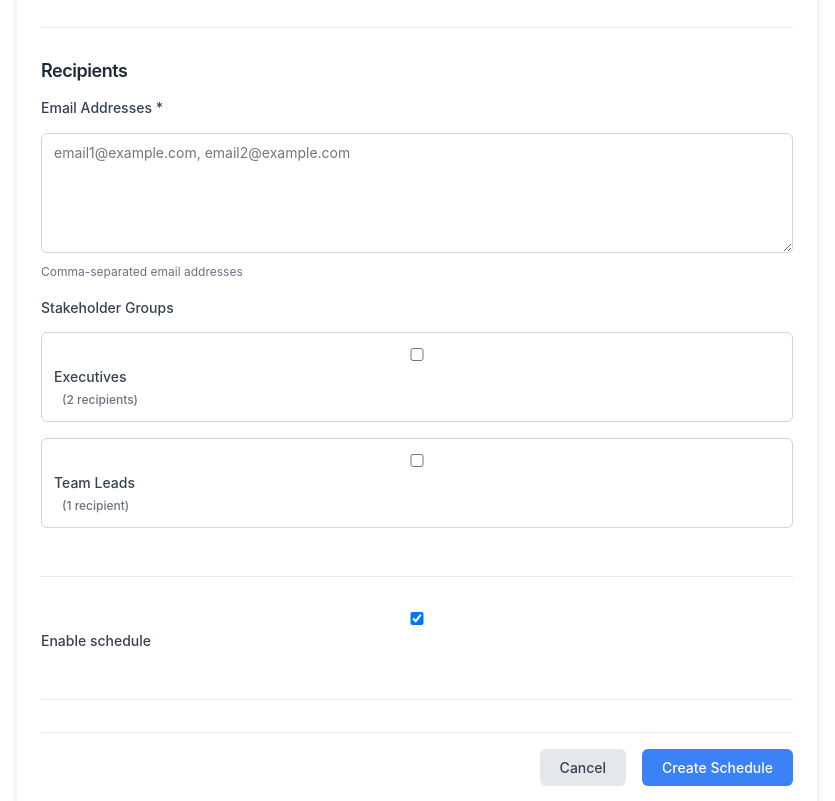
Scenario: ScheduleForm › should show validation error when submitting without report selection
The image size is (835, 801).
(page scrolled)
Click the button "Create Schedule". click: [718, 768]
box: left=642, top=750, right=793, bottom=786
(page scrolled)
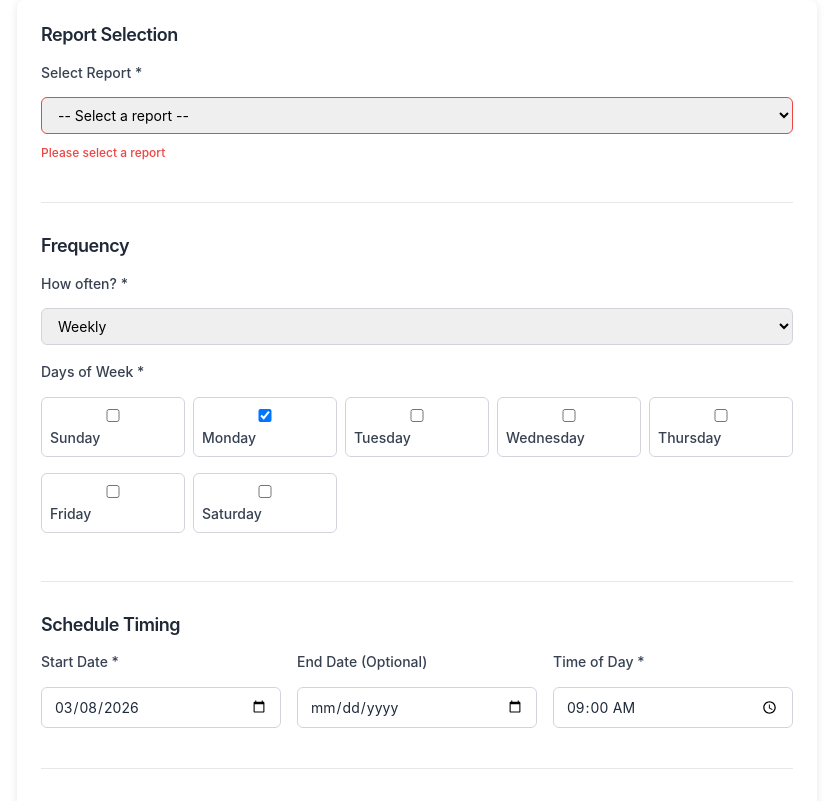
Now the text "Please select a report" is shown, box left=41, top=145, right=165, bottom=160
